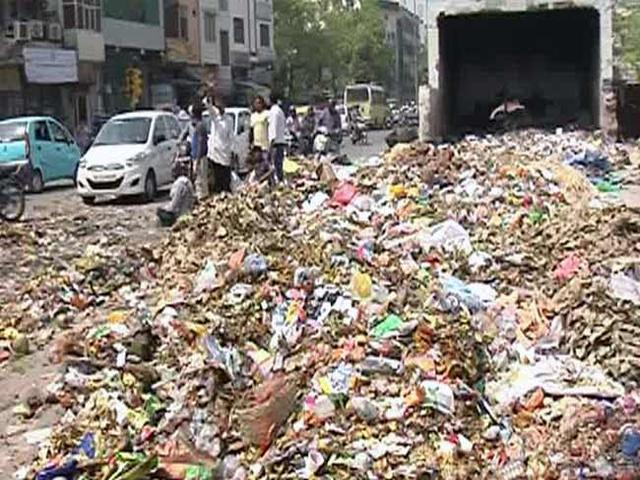garbage: (50, 247, 621, 475), (298, 162, 640, 262)
